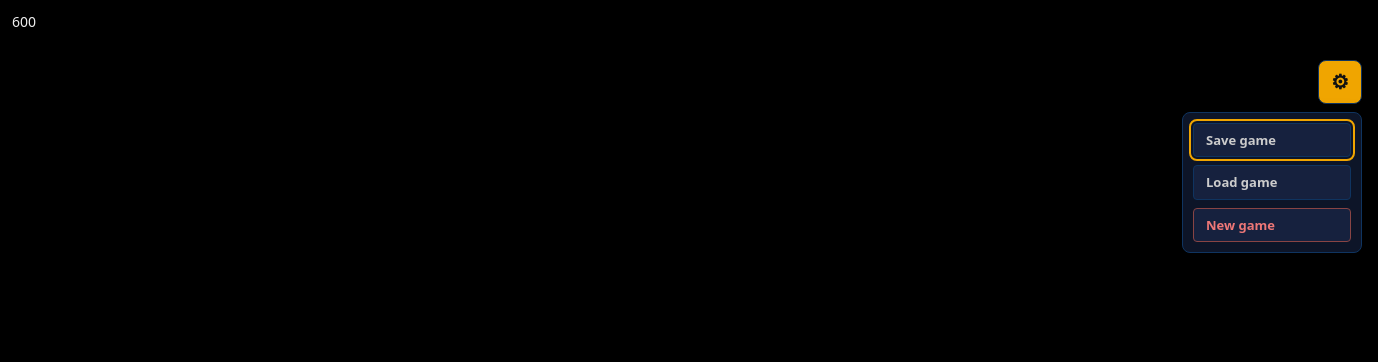
Scenario: replacement navigation save boundary › reports a same-version malformed repository save as incompatible without replacing the current game
Click the button "Load game": coordinates (1272, 182) [1193,165,1351,200]
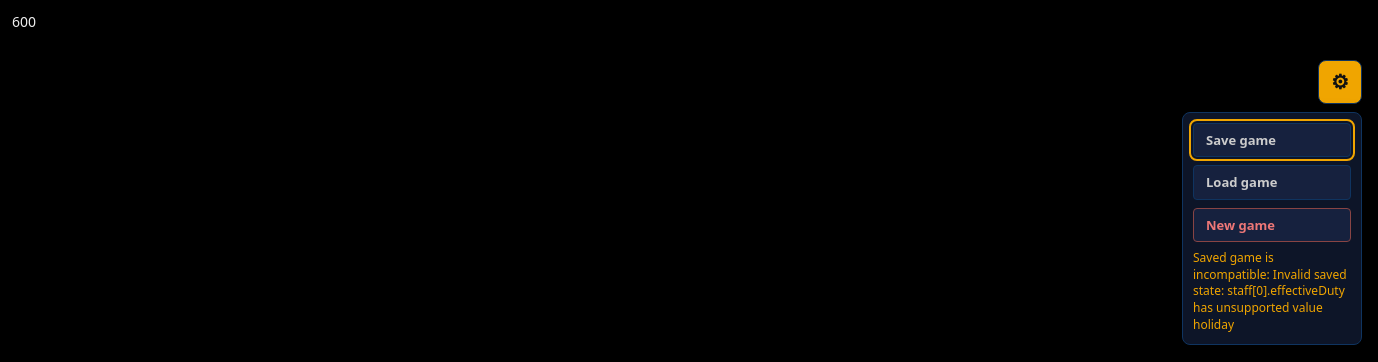
Check: the text with test id "funds" reads "600", box [12,12,36,31]
Check: the text "incompatible" is shown, box [1193,249,1347,333]
